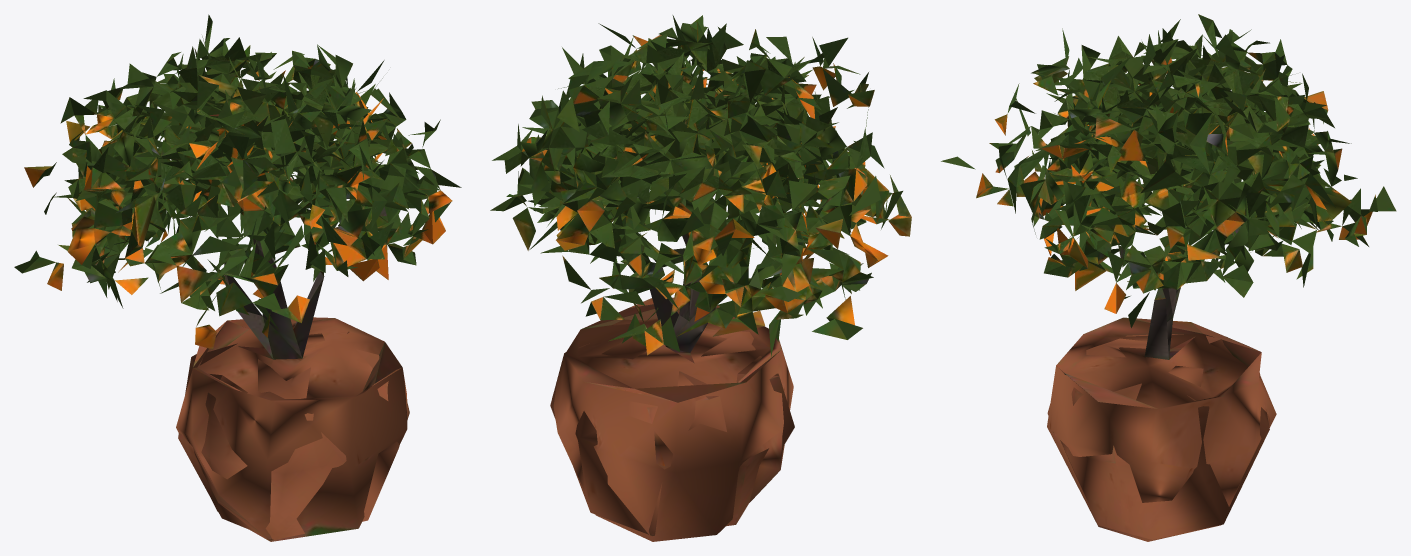
Rendered from la_planter_tree.glb.
3 views of the same model, side by side, from view 1: azimuth 30°, elevation 25°; view 2: azimuth 150°, elevation 25°; view 3: azimuth 270°, elevation 25° (orthographic). The views are drawn at different scales.
Visible parts, largest first — view 1: la_planter_tree; view 2: la_planter_tree; view 3: la_planter_tree.
Boxes of the visible parts, <box> form: la_planter_tree: <box>14,14,461,541</box>; la_planter_tree: <box>490,15,911,541</box>; la_planter_tree: <box>941,14,1396,541</box>.
Bounding box in the file's own units: 2.02 × 2.4 × 2.17.
1 material, 1 textured.
